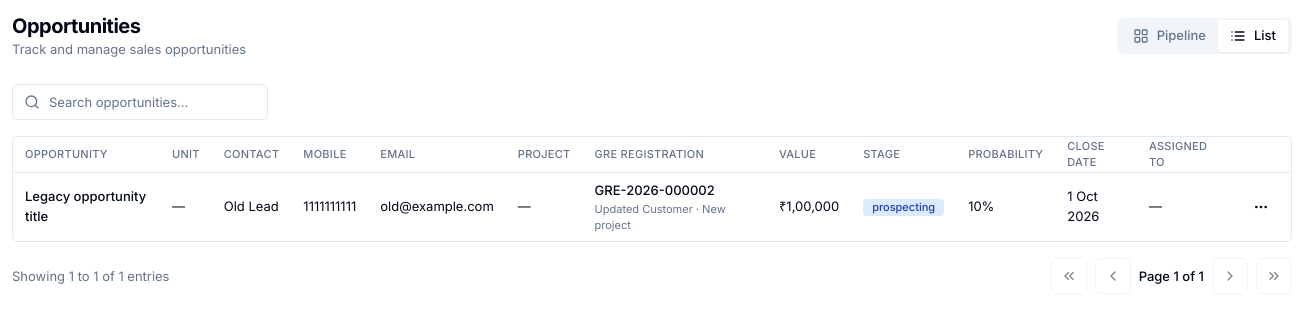
Test: OpportunitiesPage GRE snapshot › shows current GRE data in both pipeline and list views after a fresh load
Expected: the heading "Opportunities" is shown, left=12, top=14, right=140, bottom=38
Press the mouse on the tab "Pipeline" at coordinates (1169, 36), box left=1121, top=20, right=1218, bottom=52
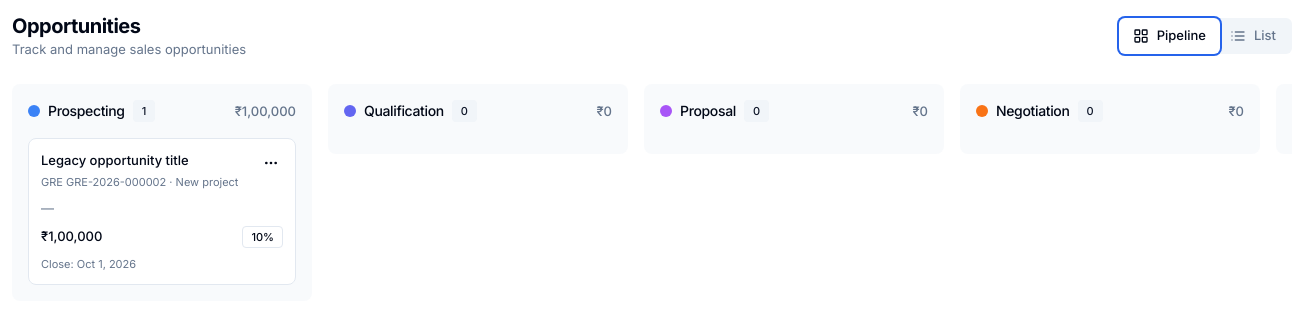
Expected: the text "GRE GRE-2026-000002 · New project" is shown, left=41, top=174, right=238, bottom=190
Press the mouse on the tab "List" at coordinates (1253, 36), box left=1218, top=20, right=1288, bottom=52
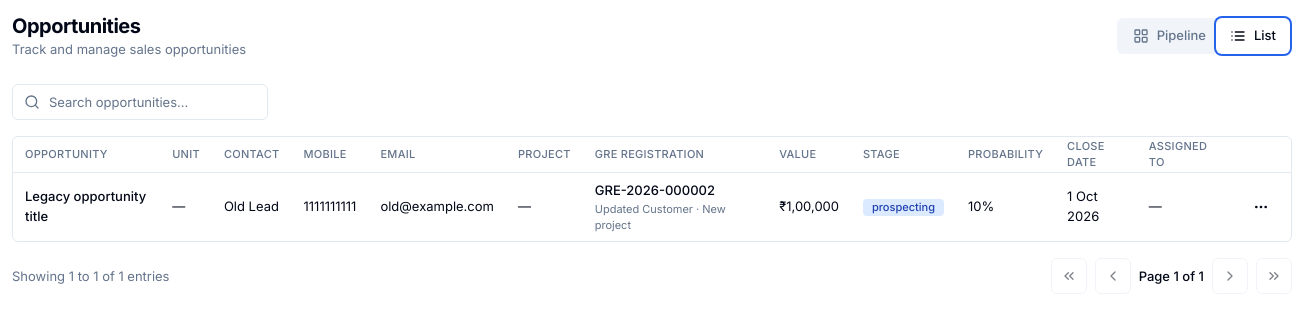
Expected: the text "GRE-2026-000002" is shown, left=595, top=182, right=715, bottom=198
Expected: the text "Updated Customer · New project" is shown, left=595, top=202, right=726, bottom=232
